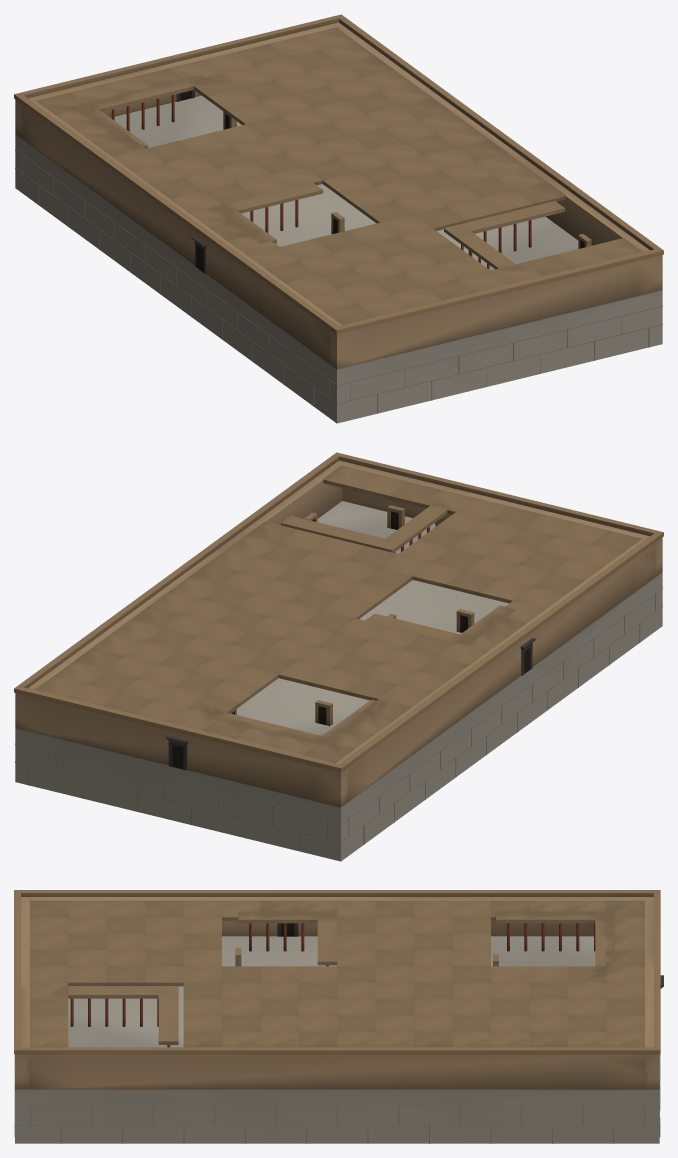
The model's file is treasury.glb.
The picture shows the model from 3 angles, top to bottom: view 1: azimuth 30°, elevation 25°; view 2: azimuth 150°, elevation 25°; view 3: azimuth 270°, elevation 25°; orthographic projection.
Parts seen in each view (by area): view 1: p2_roof, p0_terrace, p1_walls; view 2: p2_roof, p0_terrace, p1_walls; view 3: p2_roof, p0_terrace, p1_walls.
Boxes of the visible parts, x1,y1,x2,y2 form: p2_roof: (36, 27, 642, 325); p0_terrace: (15, 95, 662, 423); p1_walls: (14, 14, 663, 369); p2_roof: (35, 465, 641, 763); p0_terrace: (15, 501, 662, 861); p1_walls: (14, 452, 663, 807); p2_roof: (30, 900, 644, 1047); p0_terrace: (14, 936, 660, 1143); p1_walls: (14, 890, 663, 1089).
Bounding box in the file's own units: 77.05 × 20.9 × 131.
